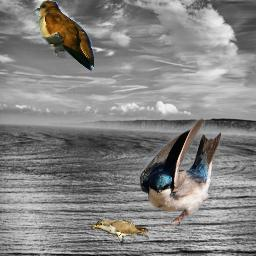Cuckoo: (33, 0, 94, 72), (91, 219, 149, 246)
Swallow: (139, 117, 222, 229)
